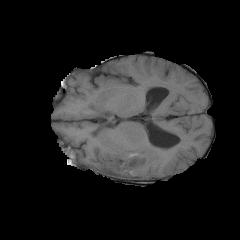glioma: (92, 144, 165, 179)
